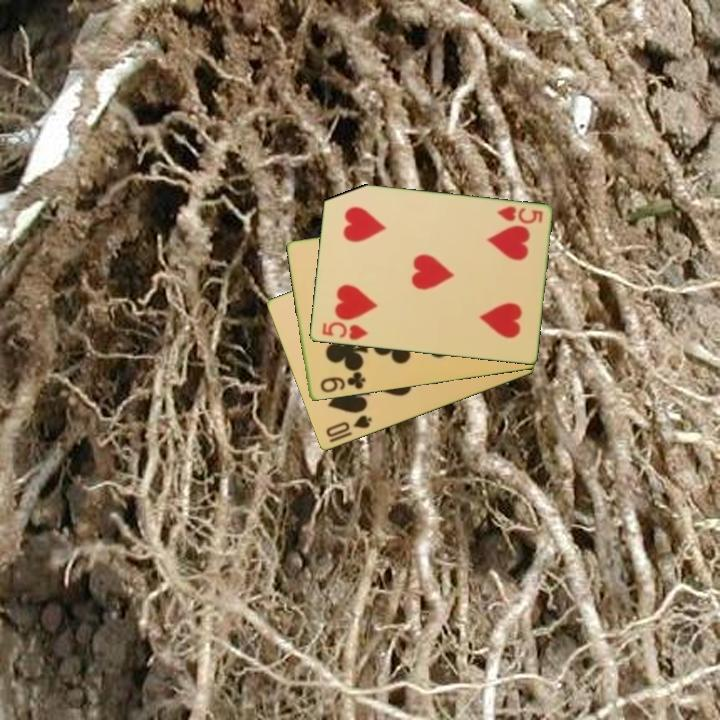10s: (322, 412, 375, 441)
5h: (318, 318, 370, 343), (493, 203, 545, 227)
9c: (316, 368, 368, 396)
